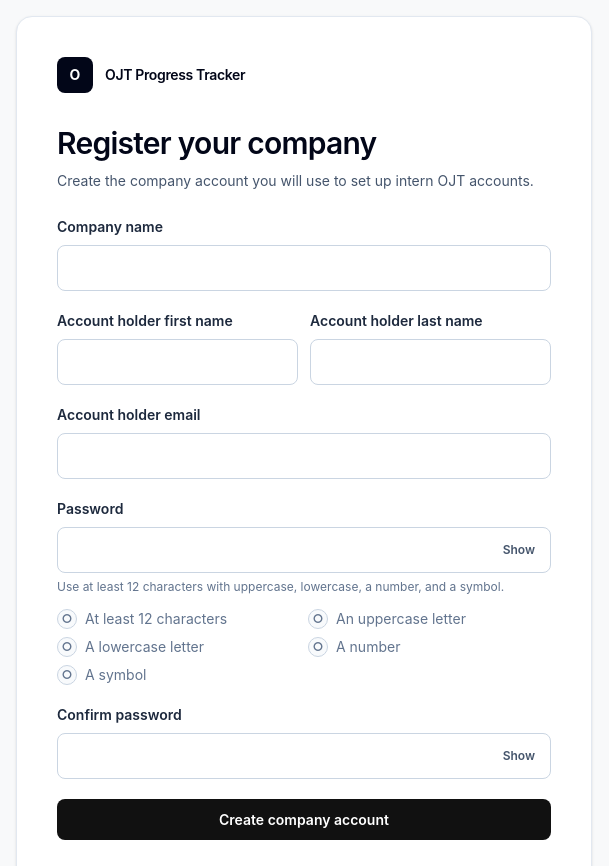
Scenario: CompanyRegisterView › shows company registration field errors and preserves the form
Type "Northwind Studio" into the field with id "company-name".
click(304, 268); type("Northwind Studio")  # box [57, 245, 551, 291]
Type "Jamie" into the field with id "company-first-name".
click(178, 362); type("Jamie")  # box [57, 339, 298, 385]
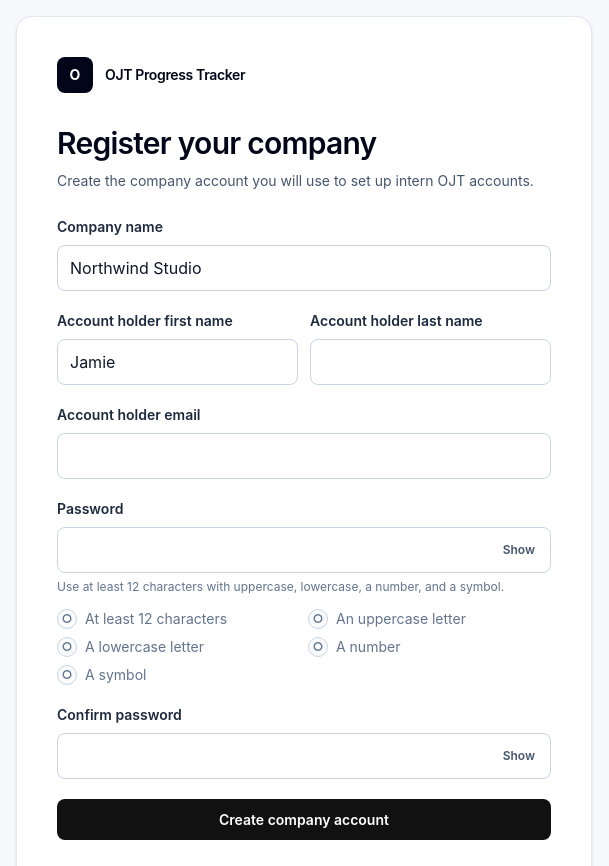
Type "Santos" into the field with id "company-last-name".
click(430, 362); type("Santos")  # box [310, 339, 551, 385]
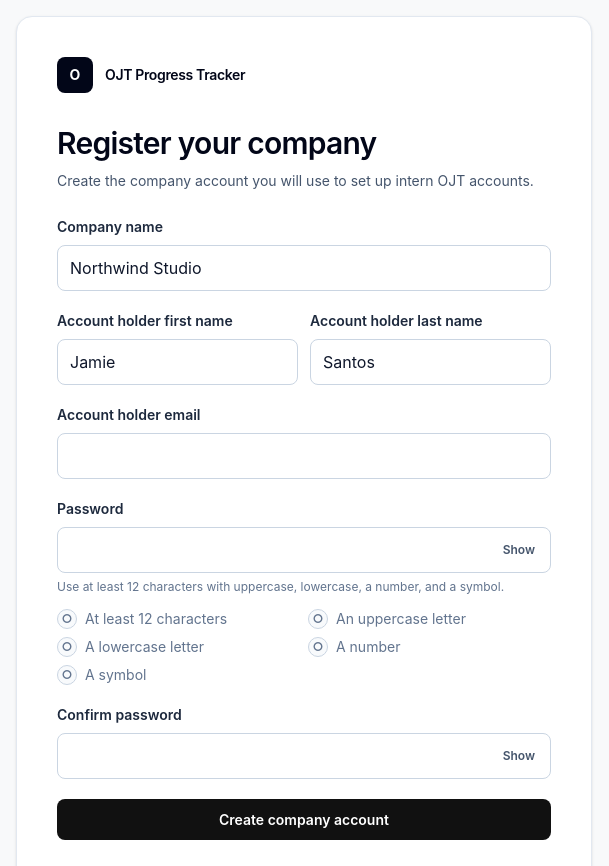
Type "owner@northwind.example" into the field with id "company-email".
click(304, 456); type("owner@northwind.example")  # box [57, 433, 551, 479]
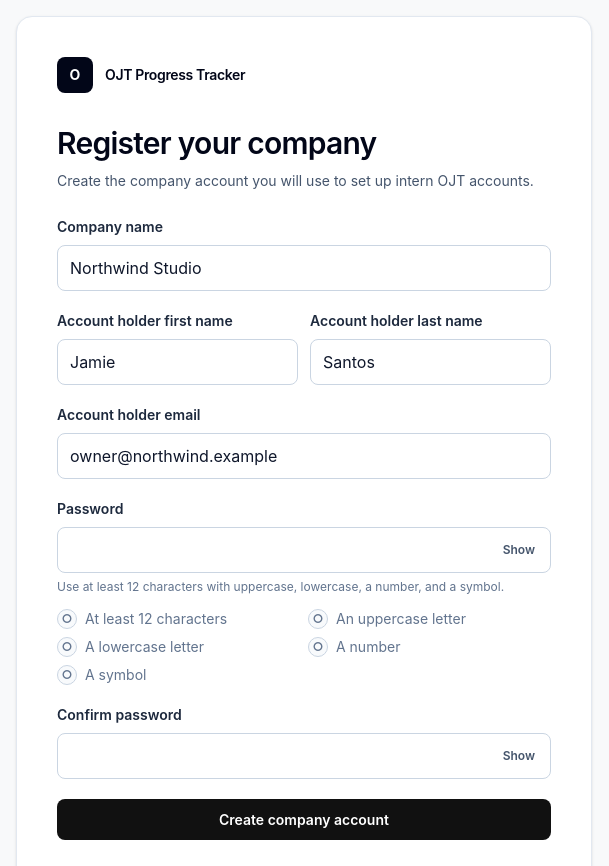
Type "StrongPassword1!" into the password field with id "company-password".
click(304, 550); type("StrongPassword1!")  # box [57, 527, 551, 573]
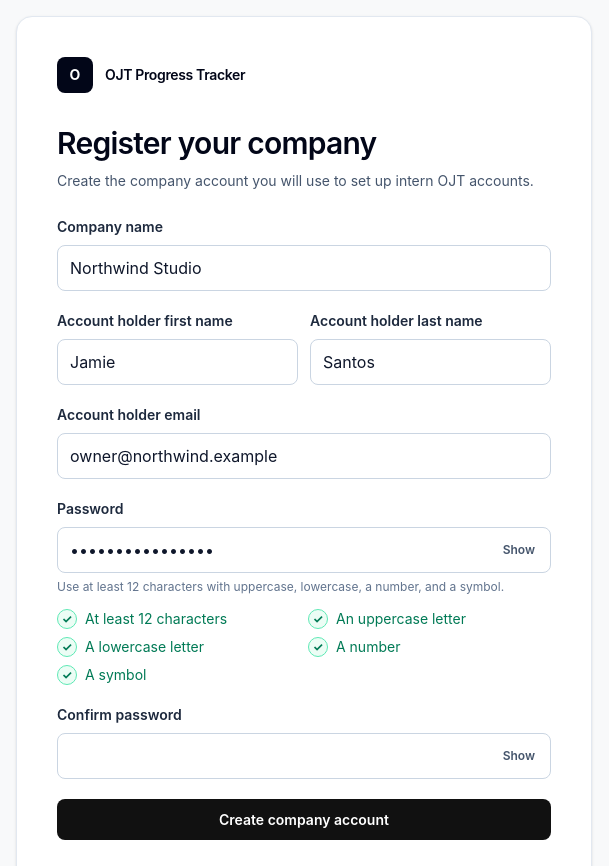
Type "StrongPassword1!" into the password field with id "company-password-confirmation".
click(304, 756); type("StrongPassword1!")  # box [57, 733, 551, 779]
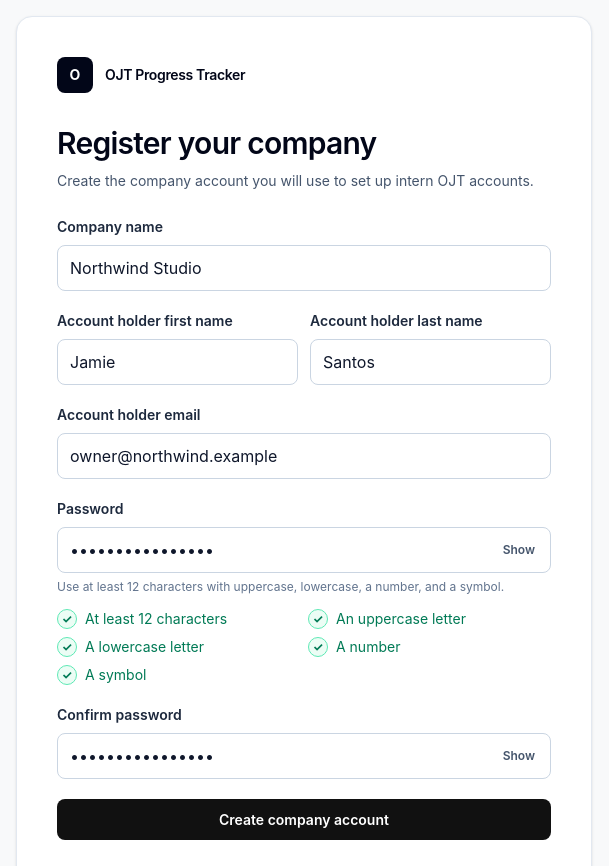
Submit the form, box [57, 217, 551, 840]
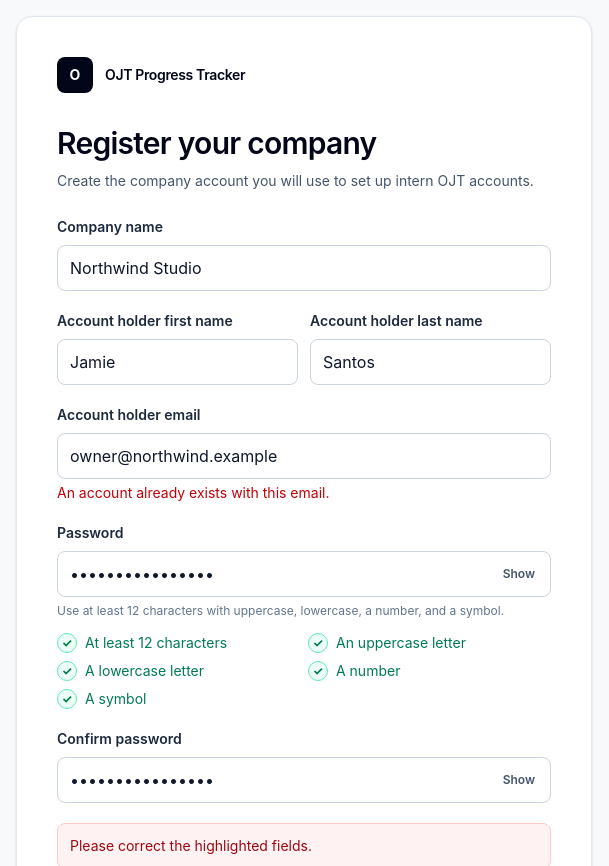
Check: the message with test id "company-email-error" shows "An account already exists", box [57, 484, 330, 501]
